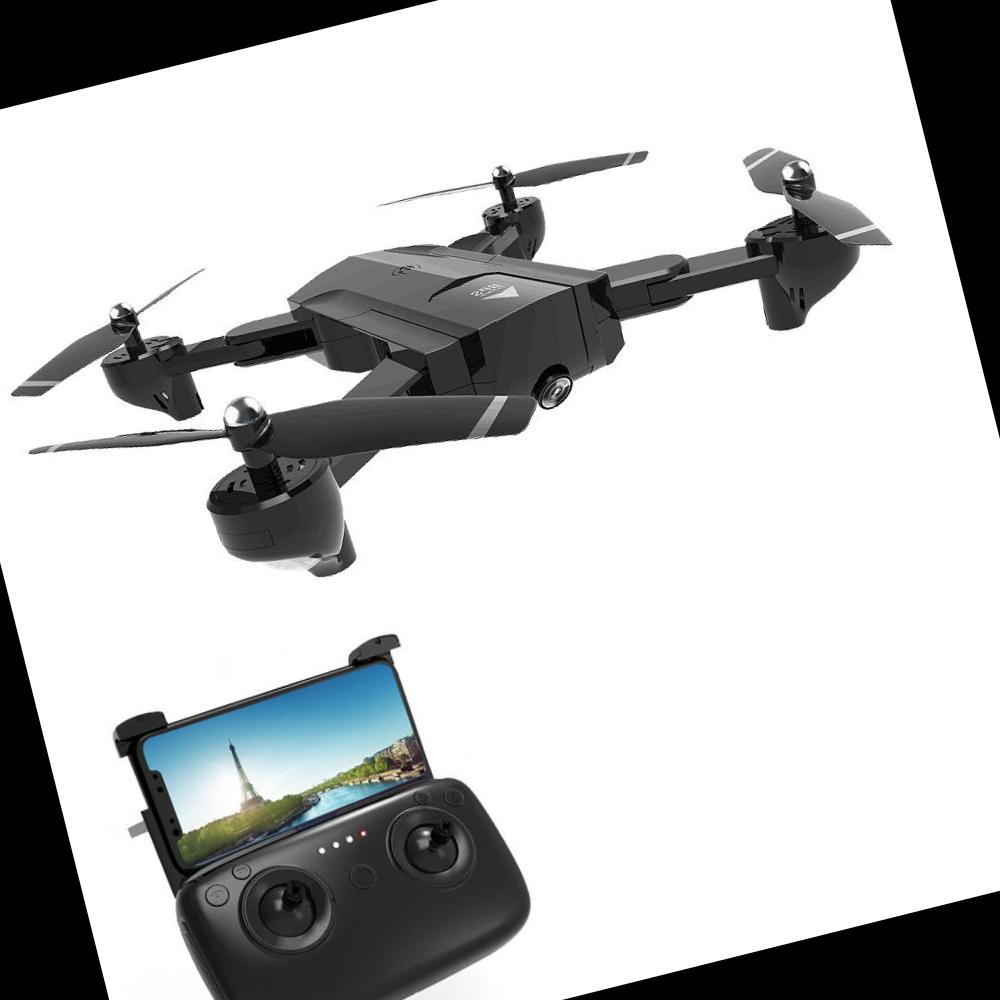drone: (0, 69, 969, 631)
